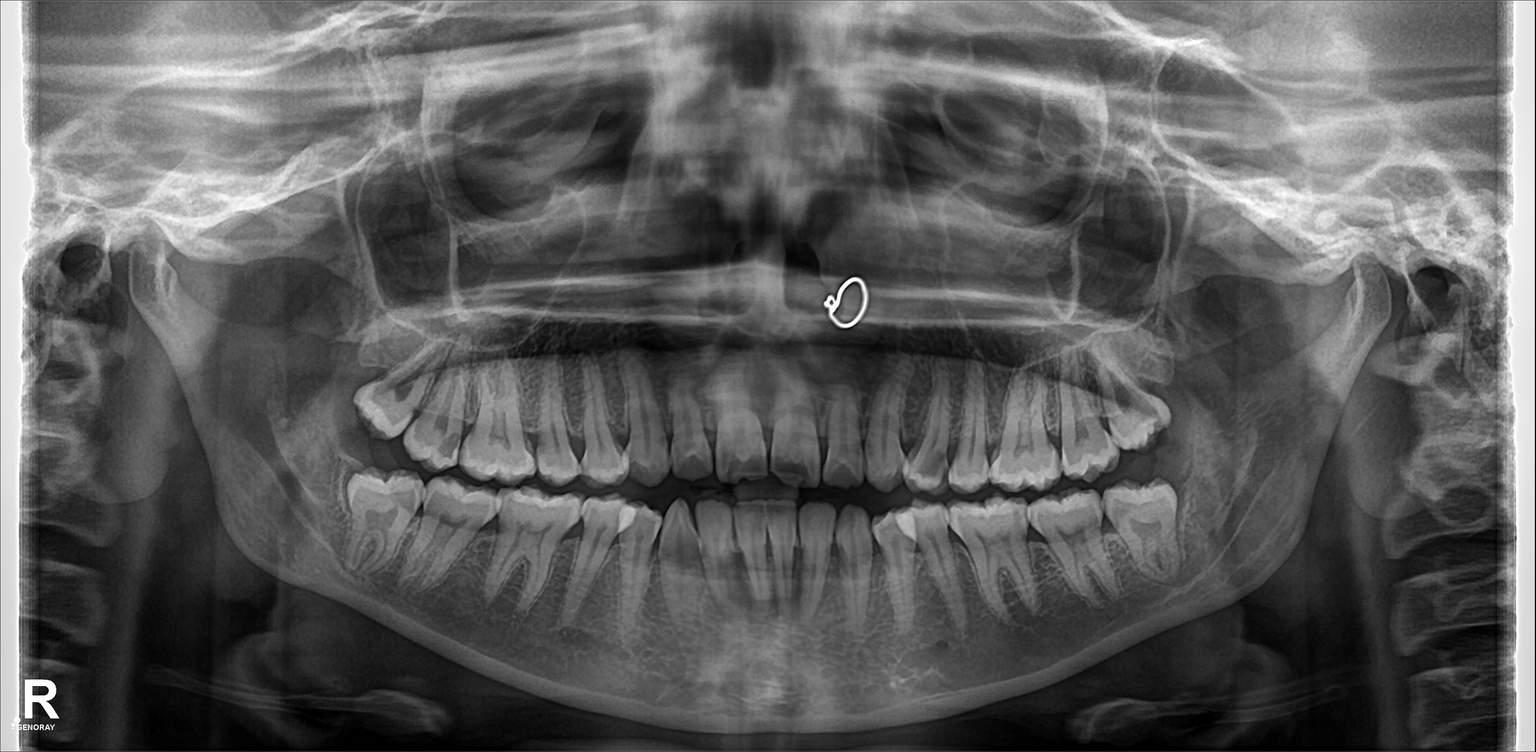Dental Caries: (432, 404, 468, 460), (924, 443, 951, 489)
